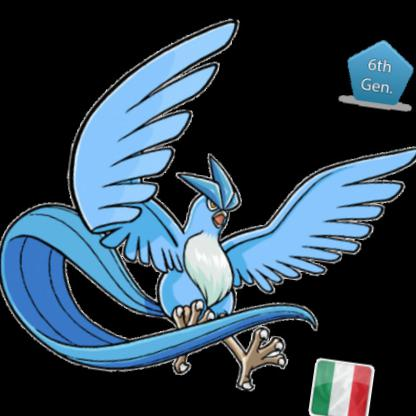Articuno: (1, 1, 416, 416), (1, 9, 416, 416)
